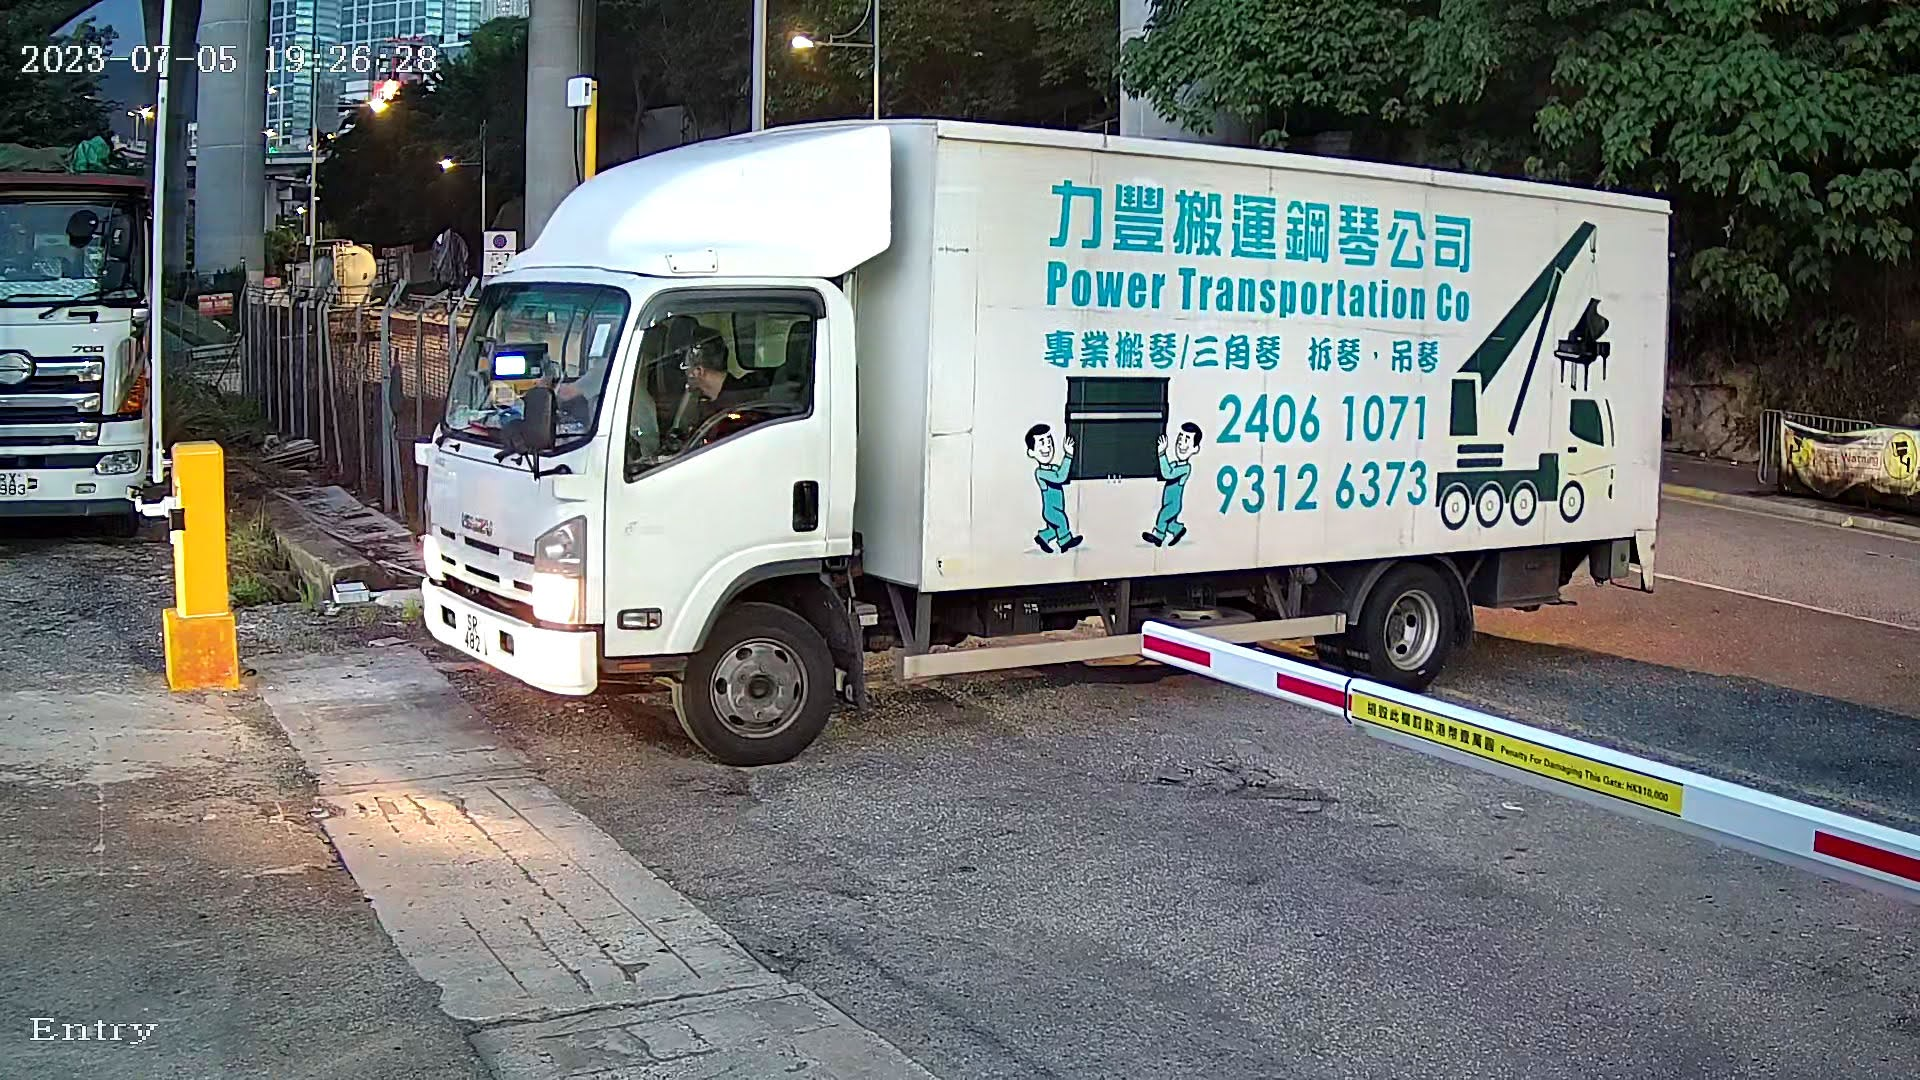truck_small: (385, 94, 1739, 775)
